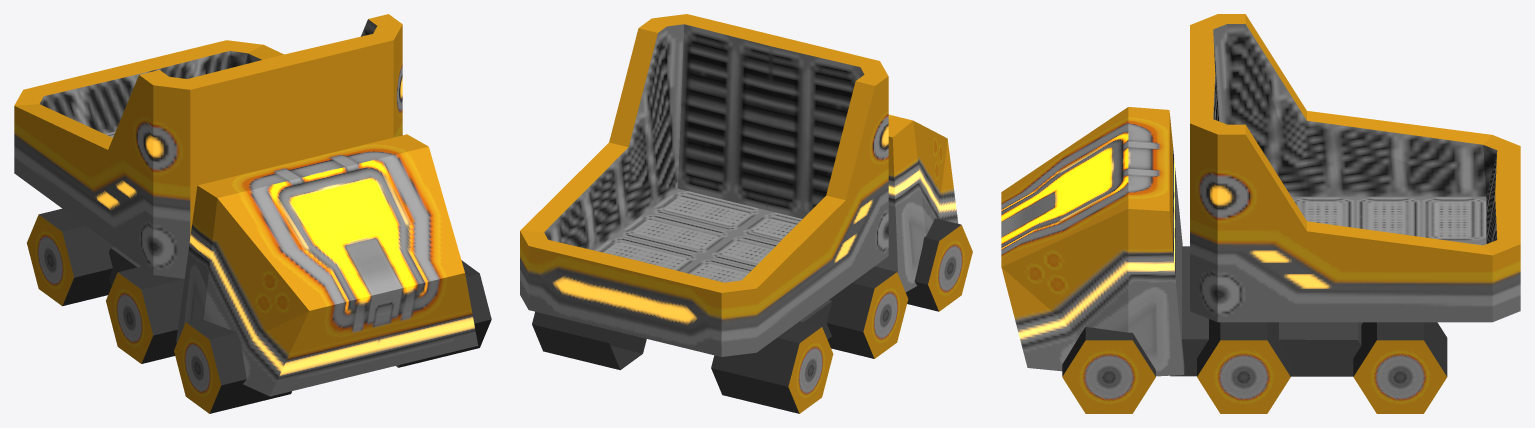
The model's file is lorry-1.glb.
3 renders of one model, left to right at view 1: azimuth 30°, elevation 25°; view 2: azimuth 150°, elevation 25°; view 3: azimuth 270°, elevation 25°, orthographic. The views are drawn at different scales.
Visible parts, largest first — view 1: Cylinder, Cylinder.004; view 2: Cylinder.004, Cylinder; view 3: Cylinder.004, Cylinder.
Boxes of the visible parts, x1=… form: Cylinder: x1=106, y1=134, x2=491, y2=413; Cylinder.004: x1=14, y1=14, x2=402, y2=306; Cylinder.004: x1=520, y1=14, x2=888, y2=413; Cylinder: x1=800, y1=114, x2=972, y2=358; Cylinder.004: x1=1190, y1=14, x2=1520, y2=413; Cylinder: x1=1001, y1=107, x2=1362, y2=413.
Size of the model in its own units: 4 by 3.92 by 6.72.
1 material, 1 textured.
